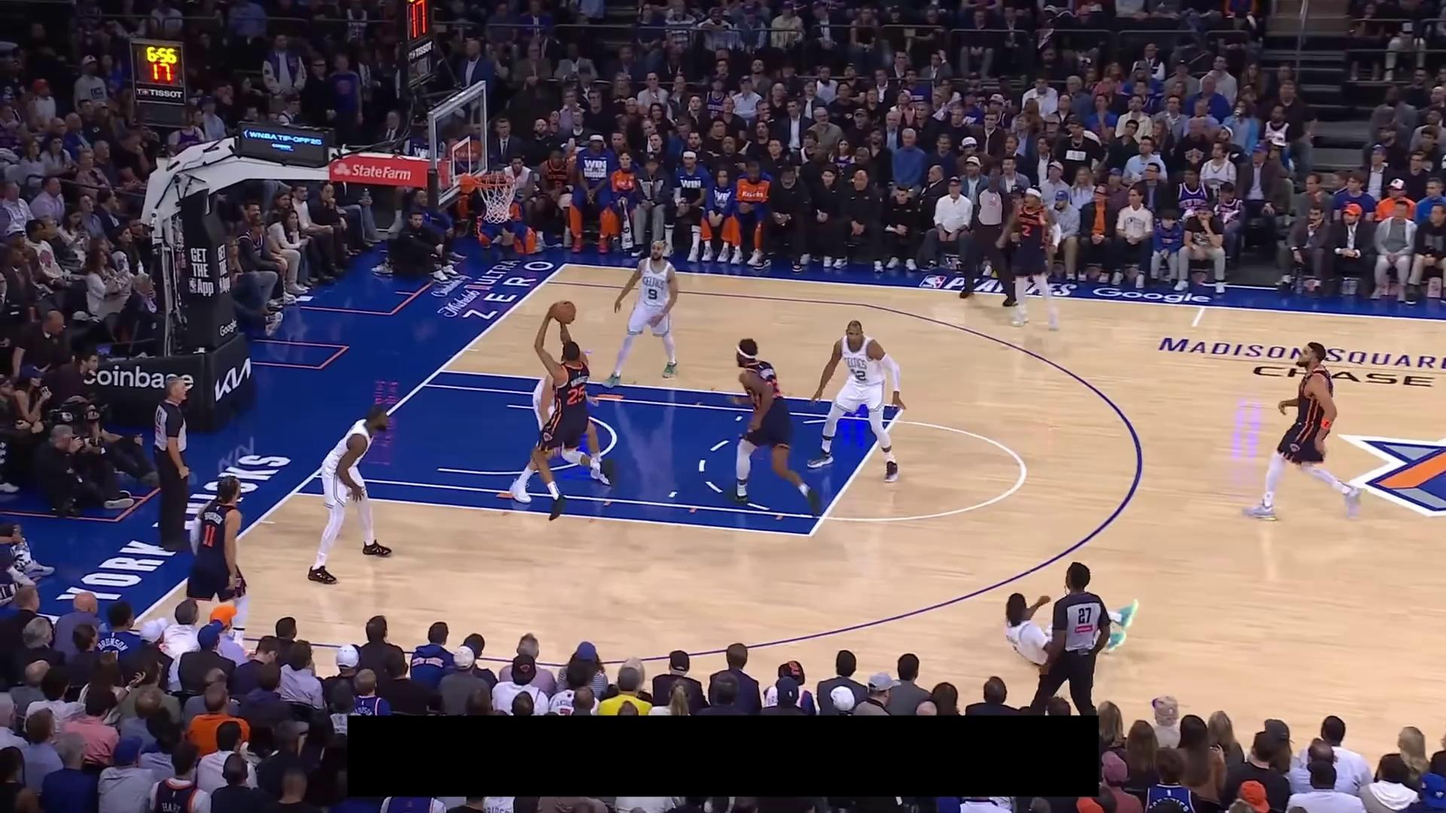ball: (551, 300, 576, 324)
number: (567, 385, 587, 406), (203, 523, 216, 548), (850, 367, 868, 383), (647, 287, 658, 301), (1021, 224, 1031, 237)
player: (1241, 340, 1363, 522), (718, 336, 823, 518), (806, 318, 905, 484), (307, 402, 395, 586), (510, 355, 613, 504), (600, 237, 681, 391), (185, 475, 248, 648), (994, 184, 1063, 333), (1004, 592, 1139, 667)
player-jump-shot: (530, 306, 616, 521)
referee: (1028, 561, 1112, 716), (960, 170, 1019, 307), (152, 376, 193, 551)
rim: (474, 171, 516, 188)
